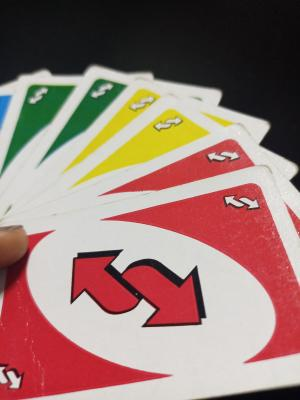reverse: (65, 241, 211, 337), (216, 182, 265, 222), (0, 349, 35, 397), (201, 143, 249, 171), (149, 111, 190, 137), (128, 91, 164, 117), (25, 82, 54, 109), (86, 78, 118, 102)
